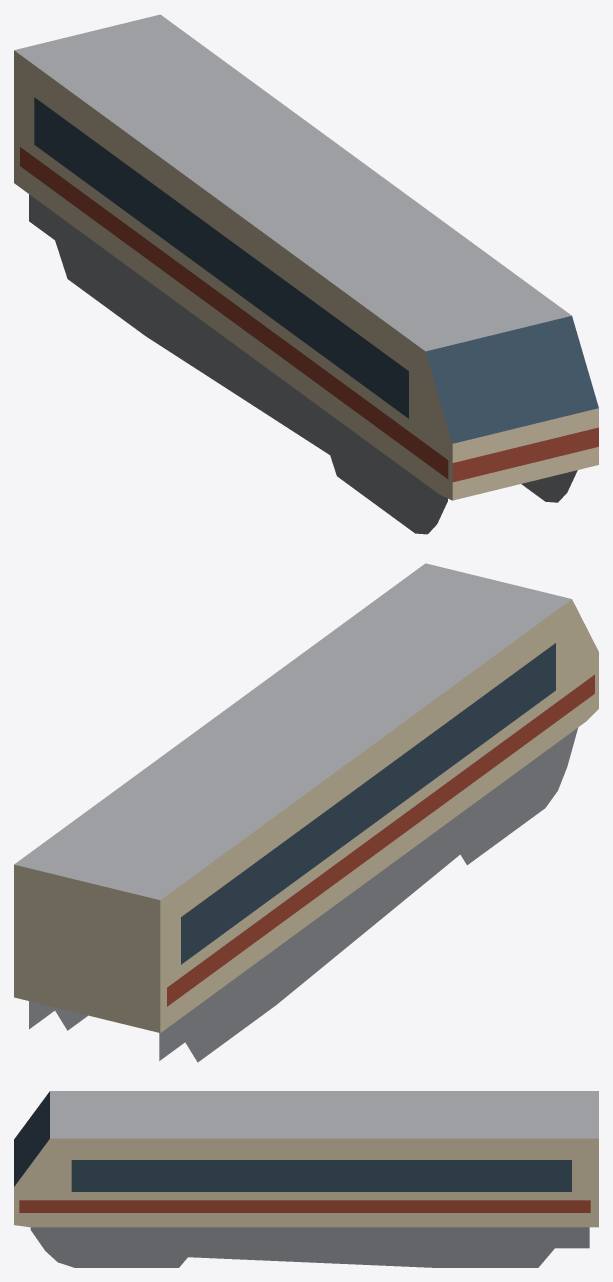
Rendered from 3_far.fbx.
3 renders of one model, top to bottom at view 1: azimuth 30°, elevation 25°; view 2: azimuth 150°, elevation 25°; view 3: azimuth 270°, elevation 25°, orthographic. The views are drawn at different scales.
Parts seen in each view (by area): view 1: 24_3_far; view 2: 24_3_far; view 3: 24_3_far.
Part boxes in pixels (x1,y1,x2,y2): 24_3_far: (14,14,598,534); 24_3_far: (14,563,598,1062); 24_3_far: (14,1091,598,1267).
Size of the model in its own units: 2.71 by 3.48 by 14.
